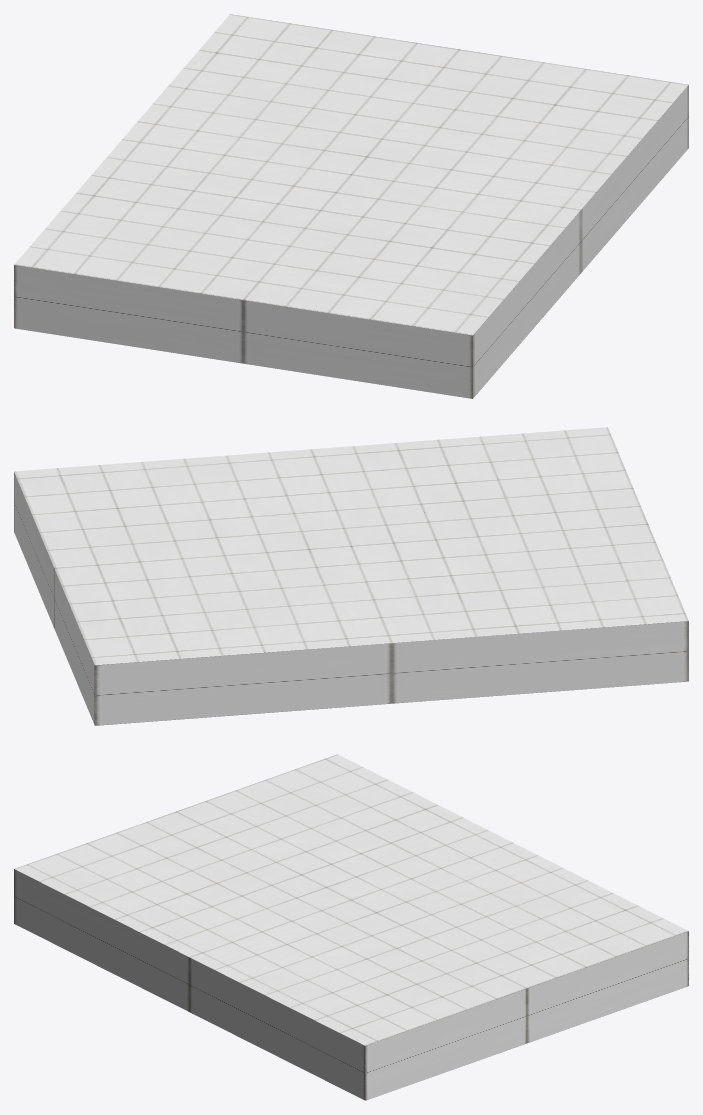
Rendered from sueloBiblioteca.fbx.
3 renders of one model, top to bottom at view 1: azimuth 30°, elevation 25°; view 2: azimuth 150°, elevation 25°; view 3: azimuth 270°, elevation 25°, orthographic. The views are drawn at different scales.
Parts seen in each view (by area): view 1: SueloBiblioteca; view 2: SueloBiblioteca; view 3: SueloBiblioteca.
Boxes of the visible parts, x1,y1,x2,y2 form: SueloBiblioteca: [14, 14, 688, 398]; SueloBiblioteca: [14, 427, 688, 725]; SueloBiblioteca: [14, 754, 688, 1100].
Size of the model in its own units: 12.53 by 12.25 by 1.1.
Materials: 1 (1 with a texture image).
